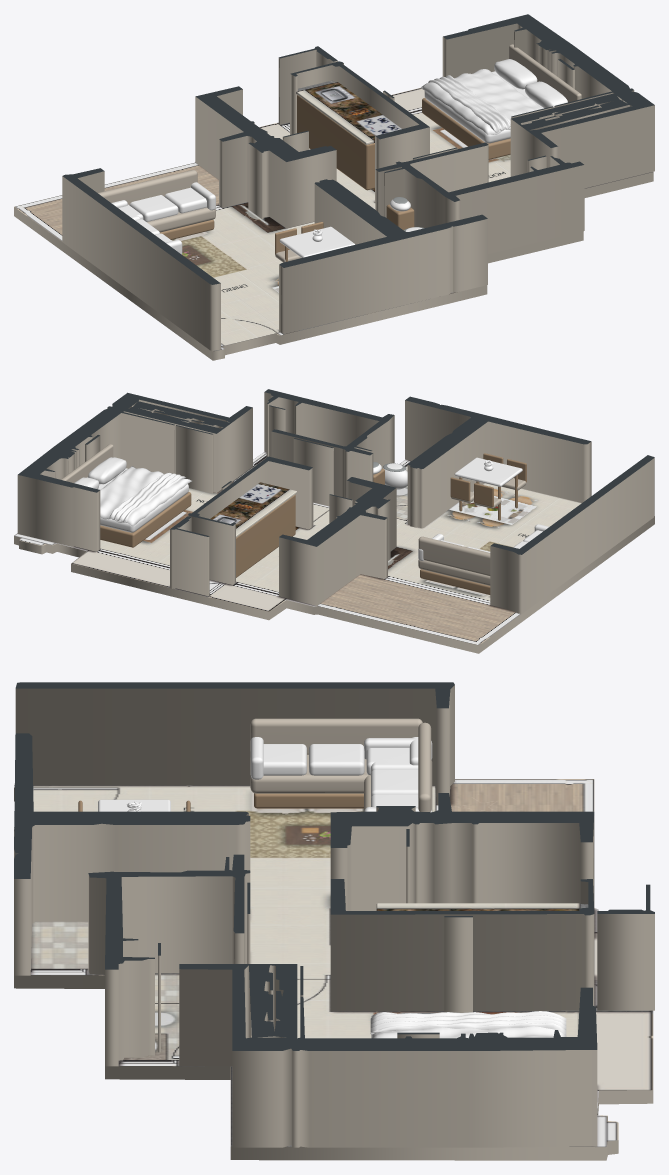
The picture shows the model from 3 angles, top to bottom: view 1: azimuth 30°, elevation 25°; view 2: azimuth 150°, elevation 25°; view 3: azimuth 270°, elevation 25°; orthographic projection. The views are drawn at different scales.
Parts seen in each view (by area): view 1: Partition walls, Apartment floor, Kitchen cabinets, Stone worktop, Draped bed linen, Sofa back.001, Draped bed linen.001, Walnut upholstered base, Marble dining top, Upholstered headboard, Piped mattress, Upholstered sofa frame.001 (+5 smaller); view 2: Partition walls, Apartment floor, Kitchen cabinets, Draped bed linen, Stone worktop, Sofa back.001, Walnut upholstered base, Draped bed linen.001, Marble dining top, Piped mattress, Upholstered sofa frame.001, Sofa plinth.001 (+4 smaller); view 3: Partition walls, Apartment floor, Sofa back, Draped bed linen.001, Upholstered sofa frame, Seat cushion.001, Sofa plinth, Stone worktop, Draped bed linen, Seat cushion, Seat cushion.004, Sofa back.001 (+2 smaller).
Boxes of the visible parts, <box> form: Partition walls: <box>62,14,654,350</box>; Apartment floor: <box>14,88,653,360</box>; Kitchen cabinets: <box>297,95,374,190</box>; Stone worktop: <box>296,80,401,144</box>; Draped bed linen: <box>421,69,542,134</box>; Sofa back.001: <box>98,170,197,205</box>; Draped bed linen.001: <box>428,75,510,132</box>; Walnut upholstered base: <box>422,98,510,159</box>; Marble dining top: <box>279,226,354,257</box>; Upholstered headboard: <box>509,44,581,102</box>; Piped mattress: <box>424,71,543,143</box>; Upholstered sofa frame.001: <box>147,207,215,232</box>; Partition walls: <box>17,389,654,613</box>; Apartment floor: <box>14,451,654,653</box>; Kitchen cabinets: <box>236,494,295,577</box>; Draped bed linen: <box>100,466,191,526</box>; Stone worktop: <box>210,482,296,537</box>; Sofa back.001: <box>418,536,490,575</box>; Walnut upholstered base: <box>100,492,191,547</box>; Draped bed linen.001: <box>108,472,186,522</box>; Marble dining top: <box>454,457,522,486</box>; Piped mattress: <box>98,468,188,532</box>; Upholstered sofa frame.001: <box>418,560,490,585</box>; Sofa plinth.001: <box>420,569,490,594</box>; Partition walls: <box>14,682,654,1147</box>; Apartment floor: <box>14,779,653,1160</box>; Sofa back: <box>250,718,422,754</box>; Draped bed linen.001: <box>370,1011,566,1036</box>; Upholstered sofa frame: <box>250,754,368,793</box>; Seat cushion.001: <box>309,744,364,775</box>; Sofa plinth: <box>254,793,363,808</box>; Stone worktop: <box>376,903,588,910</box>; Draped bed linen: <box>371,1012,565,1038</box>; Seat cushion: <box>263,744,306,775</box>; Seat cushion.004: <box>371,769,418,797</box>; Sofa back.001: <box>418,722,431,811</box>.
Size of the model in its own units: 9.33 by 1.3 by 6.85.
10 materials, 1 textured.
